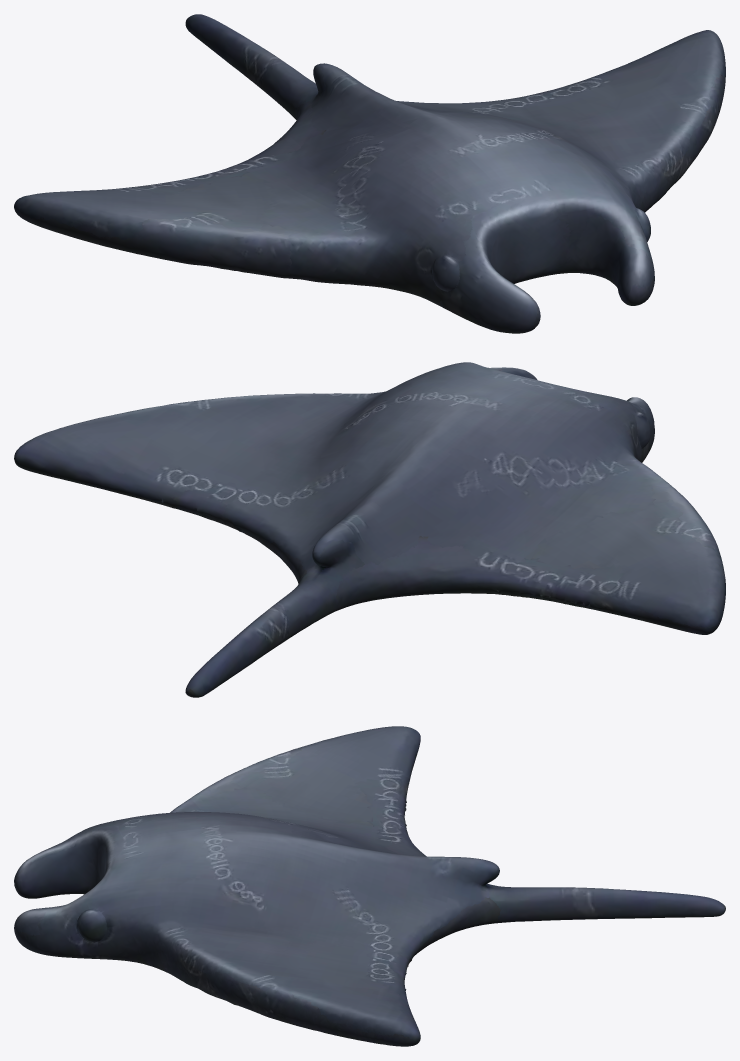
The model's file is manta_pbr.glb.
3 views of the same model, one above another, from view 1: azimuth 30°, elevation 25°; view 2: azimuth 150°, elevation 25°; view 3: azimuth 270°, elevation 25° (orthographic). The views are drawn at different scales.
Parts seen in each view (by area): view 1: model.006; view 2: model.006; view 3: model.006.
Part boxes in pixels (box(x1,y1,x2,y2)): model.006: box(14, 14, 725, 333); model.006: box(14, 362, 725, 697); model.006: box(14, 726, 725, 1046).
Bounding box in the file's own units: 2.37 × 0.3207 × 2.33.
Materials: 1 (1 with a texture image).
